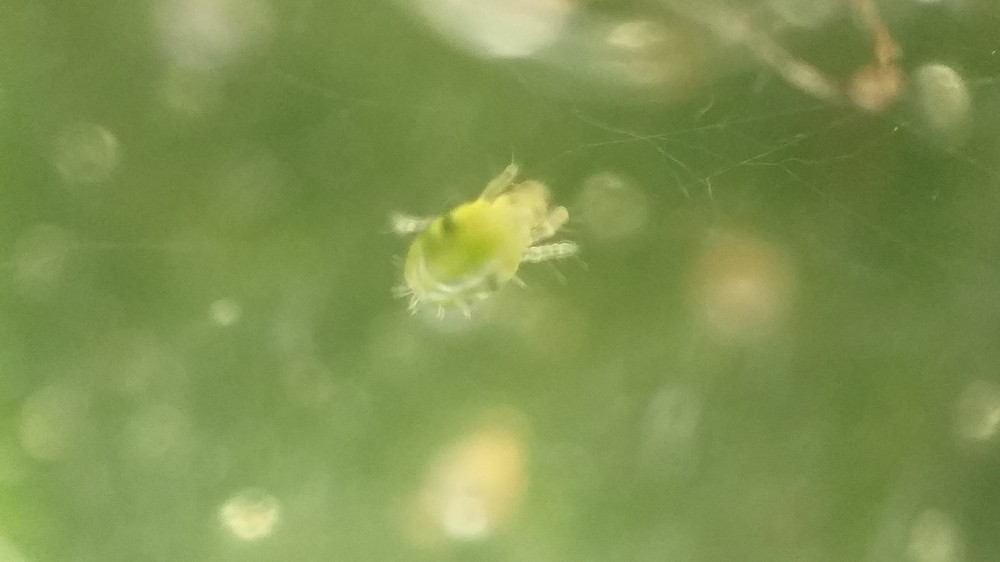Aracnido Rojo: (352, 144, 601, 319)
